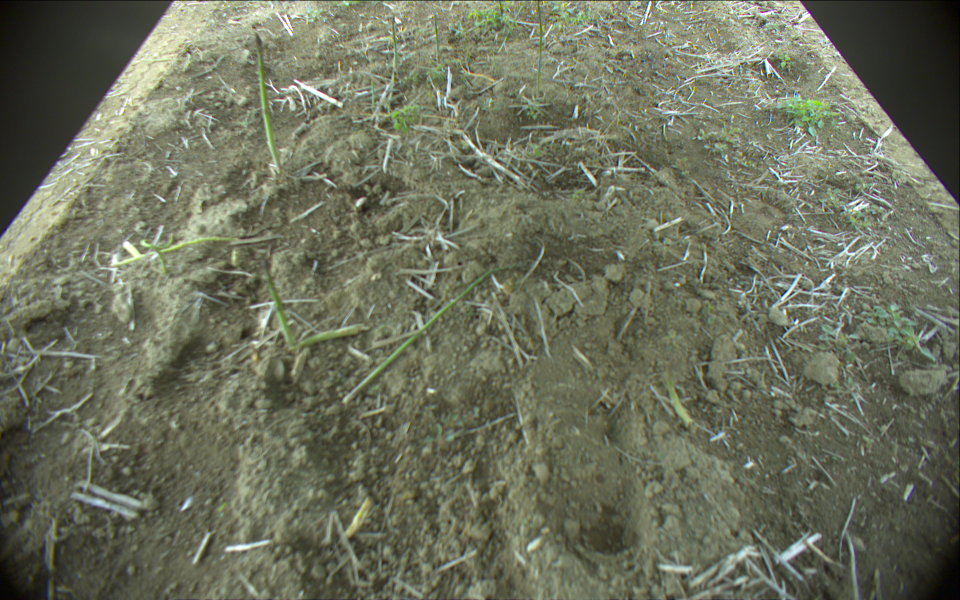aspa: (346, 265, 516, 404), (250, 28, 284, 173), (113, 230, 242, 264), (257, 251, 297, 345), (300, 326, 367, 353), (143, 230, 172, 274), (535, 1, 545, 96), (389, 15, 400, 77), (433, 11, 440, 68)
